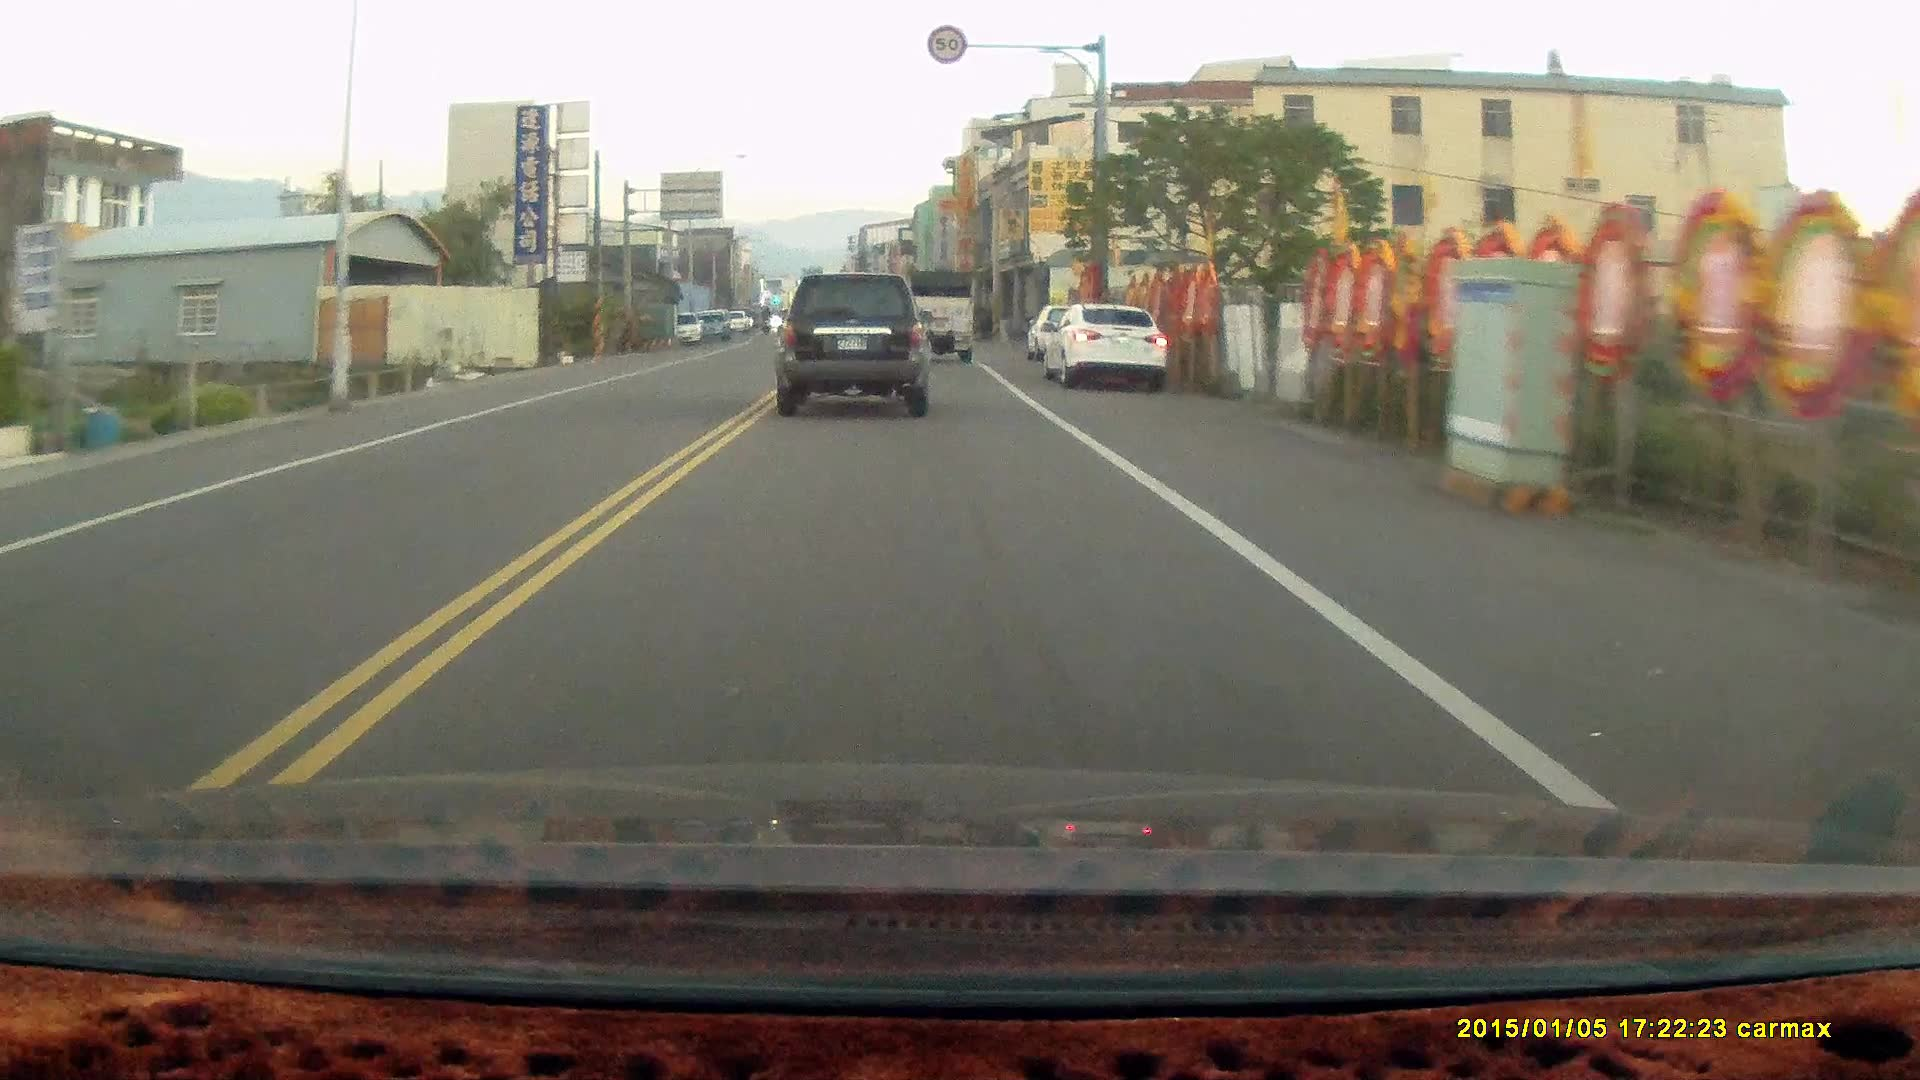vehicle: (774, 261, 935, 409), (1048, 303, 1168, 392), (902, 266, 981, 361)
